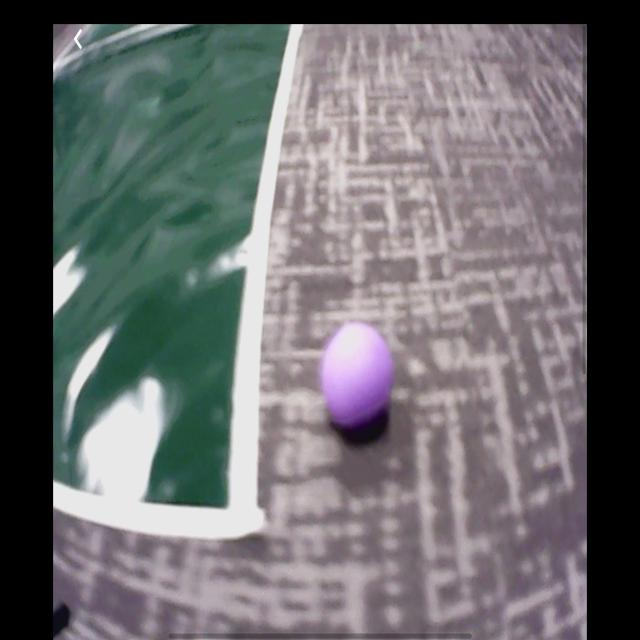ball: (326, 326, 391, 430)
